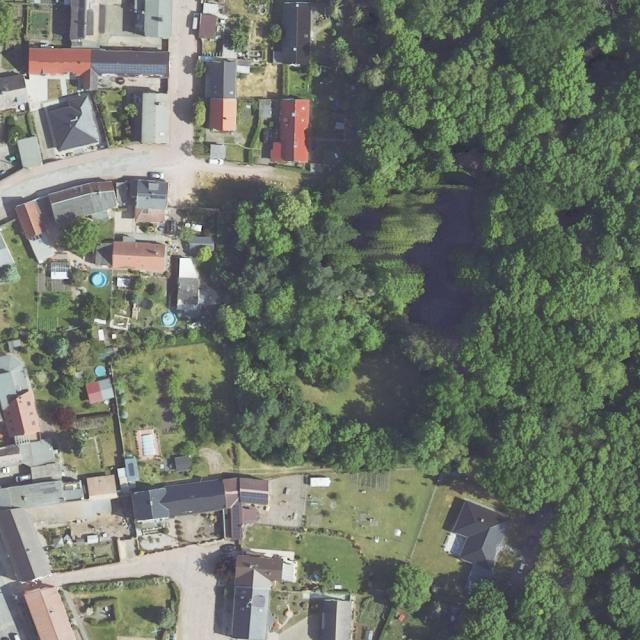PV: (92, 63, 166, 75), (241, 491, 268, 504), (233, 505, 240, 538)
ST: (129, 463, 135, 476)
